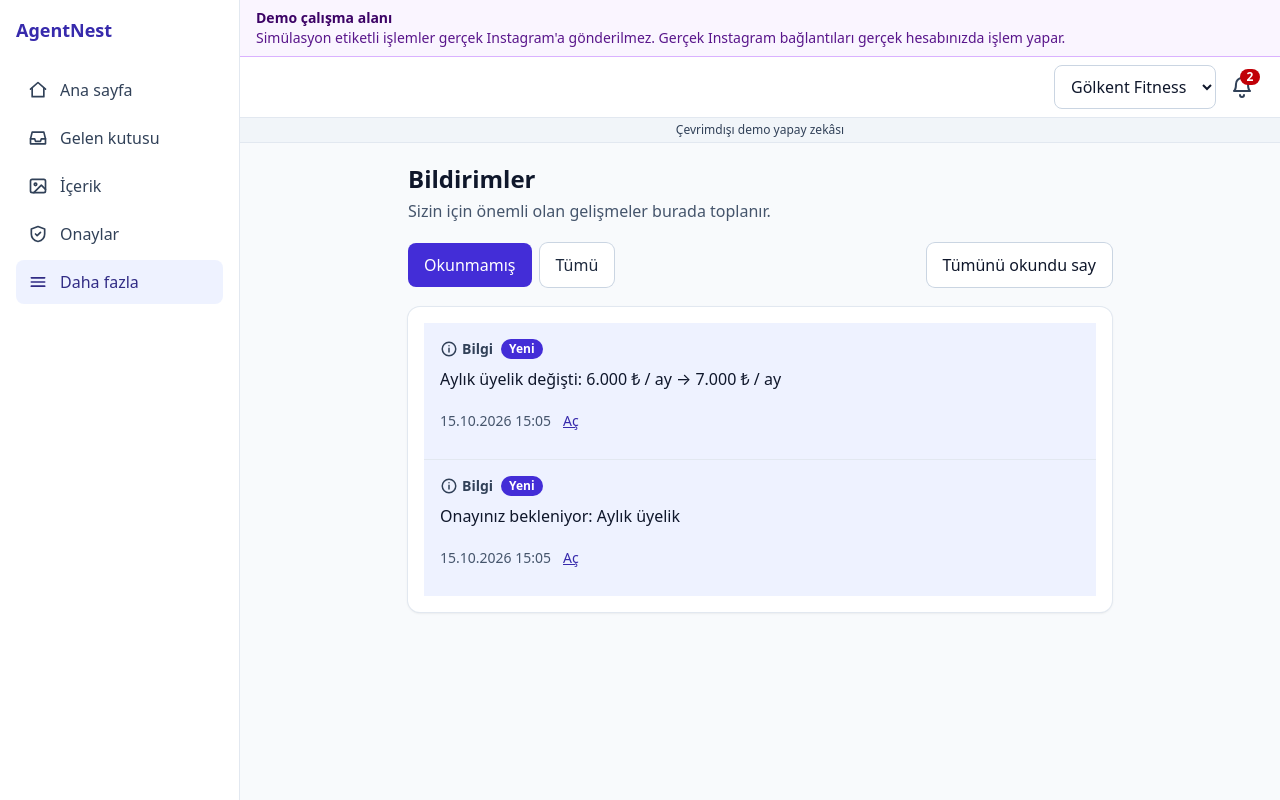
Scenario: notification centre › marks everything read
Step 1. Click the button "Tümünü okundu say" → (1019, 265), box [926,243,1112,287]
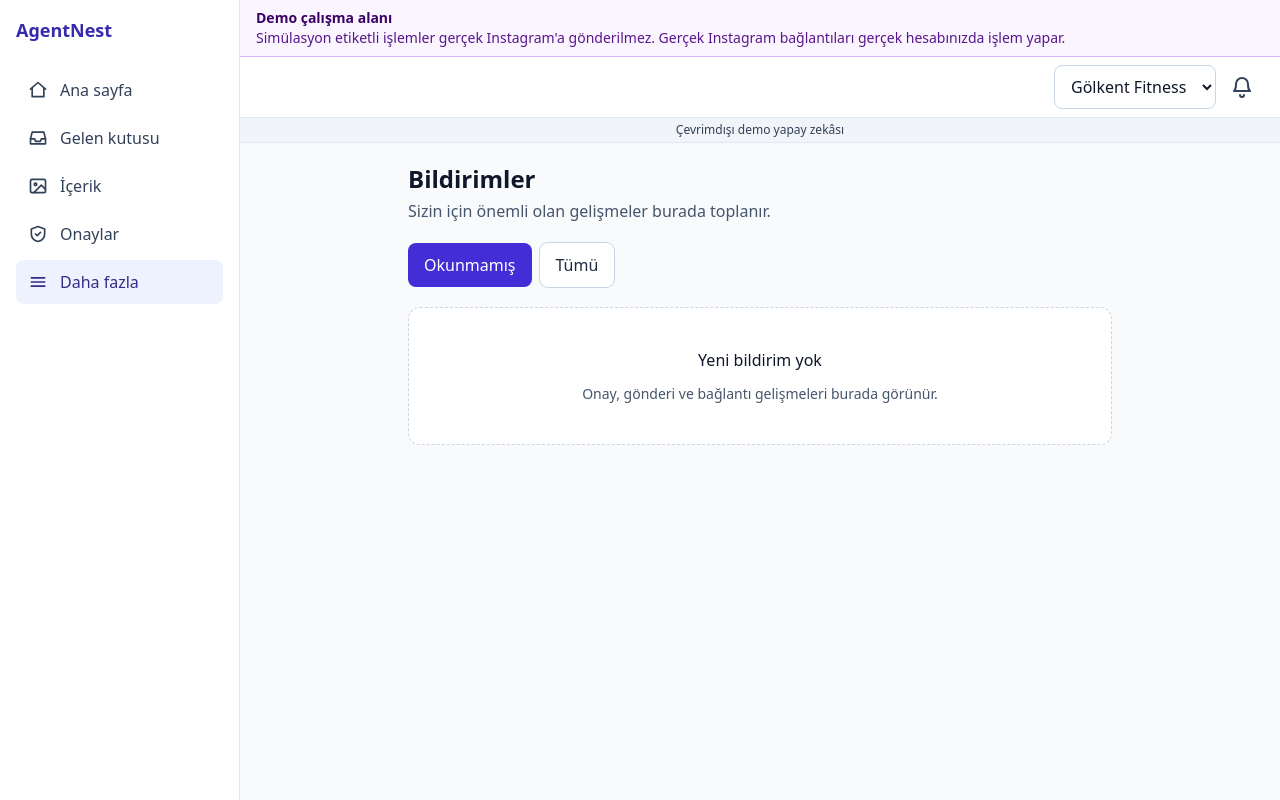
Result: the text with test id "notification-count" is gone
Result: the text "Yeni bildirim yok" is shown at [698,348,822,372]
